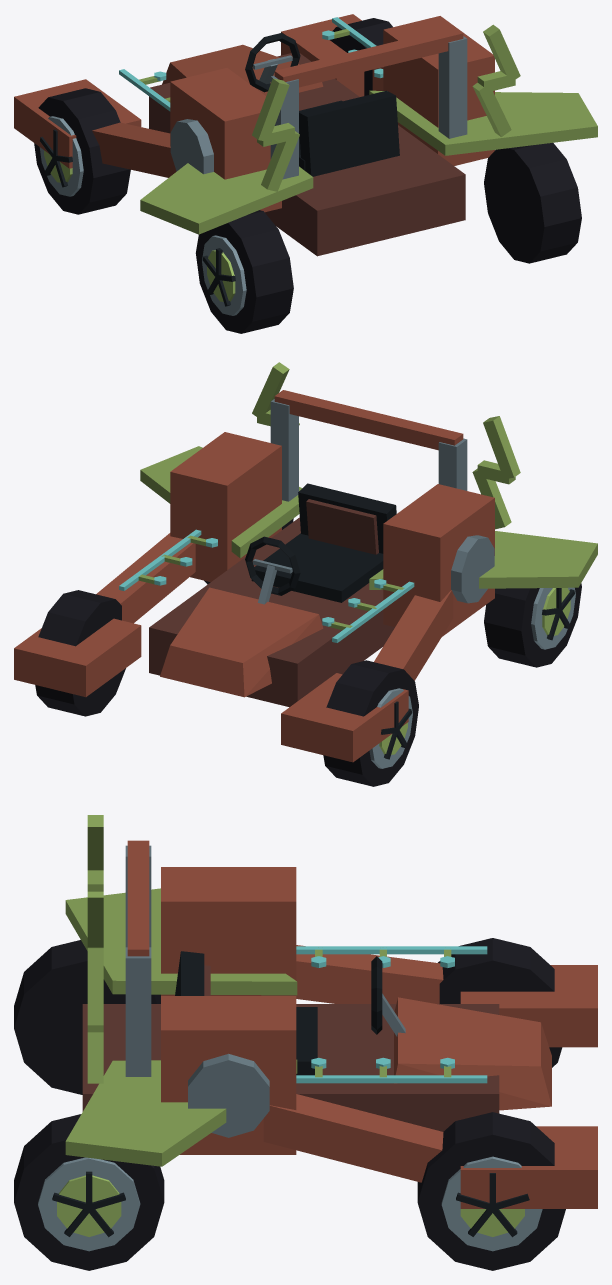
The model's file is kart.glb.
3 renders of one model, top to bottom at view 1: azimuth 30°, elevation 25°; view 2: azimuth 150°, elevation 25°; view 3: azimuth 270°, elevation 25°, orthographic. The views are drawn at different scales.
Visible parts, largest first — view 1: identity-mech-mech-articulated-limbs-and-open-harness, identity-mech-motif-wings, wheel-rear-right, wheel-rear-left, identity-mech-driver-cockpit, wheel-front-left, identity-mech-motif-electric, identity-mech-motif-circuit, wheel-front-right; view 2: identity-mech-mech-articulated-limbs-and-open-harness, identity-mech-driver-cockpit, identity-mech-motif-wings, wheel-front-left, wheel-rear-left, wheel-front-right, identity-mech-motif-electric, identity-mech-motif-circuit; view 3: identity-mech-mech-articulated-limbs-and-open-harness, identity-mech-motif-wings, wheel-rear-right, wheel-front-right, wheel-rear-left, wheel-front-left, identity-mech-motif-electric, identity-mech-motif-circuit, identity-mech-driver-cockpit.
Boxes of the visible parts, bbox=[...] form: identity-mech-mech-articulated-limbs-and-open-harness: bbox=[14, 14, 494, 256]; identity-mech-motif-wings: bbox=[140, 90, 597, 234]; wheel-rear-right: bbox=[484, 143, 581, 263]; wheel-rear-left: bbox=[195, 210, 293, 333]; identity-mech-driver-cockpit: bbox=[245, 33, 399, 176]; wheel-front-left: bbox=[34, 88, 130, 214]; identity-mech-motif-electric: bbox=[252, 24, 520, 191]; identity-mech-motif-circuit: bbox=[119, 17, 383, 111]; wheel-front-right: bbox=[330, 18, 392, 95]; identity-mech-mech-articulated-limbs-and-open-harness: bbox=[14, 390, 494, 762]; identity-mech-driver-cockpit: bbox=[245, 483, 396, 604]; identity-mech-motif-wings: bbox=[140, 446, 597, 589]; wheel-front-left: bbox=[323, 660, 418, 786]; wheel-rear-left: bbox=[484, 583, 581, 667]; wheel-front-right: bbox=[35, 590, 125, 716]; identity-mech-motif-electric: bbox=[252, 362, 520, 529]; identity-mech-motif-circuit: bbox=[119, 529, 414, 642]; identity-mech-mech-articulated-limbs-and-open-harness: bbox=[82, 840, 597, 1208]; identity-mech-motif-wings: bbox=[65, 888, 297, 1166]; wheel-rear-right: bbox=[14, 1114, 164, 1270]; wheel-front-right: bbox=[417, 1112, 565, 1270]; wheel-rear-left: bbox=[14, 940, 160, 1094]; wheel-front-left: bbox=[438, 938, 562, 1067]; identity-mech-motif-electric: bbox=[87, 815, 103, 1083]; identity-mech-motif-circuit: bbox=[296, 946, 487, 1083]; identity-mech-driver-cockpit: bbox=[175, 951, 405, 1075].
Bounding box in the file's own units: 2.92 × 1.49 × 2.72.
